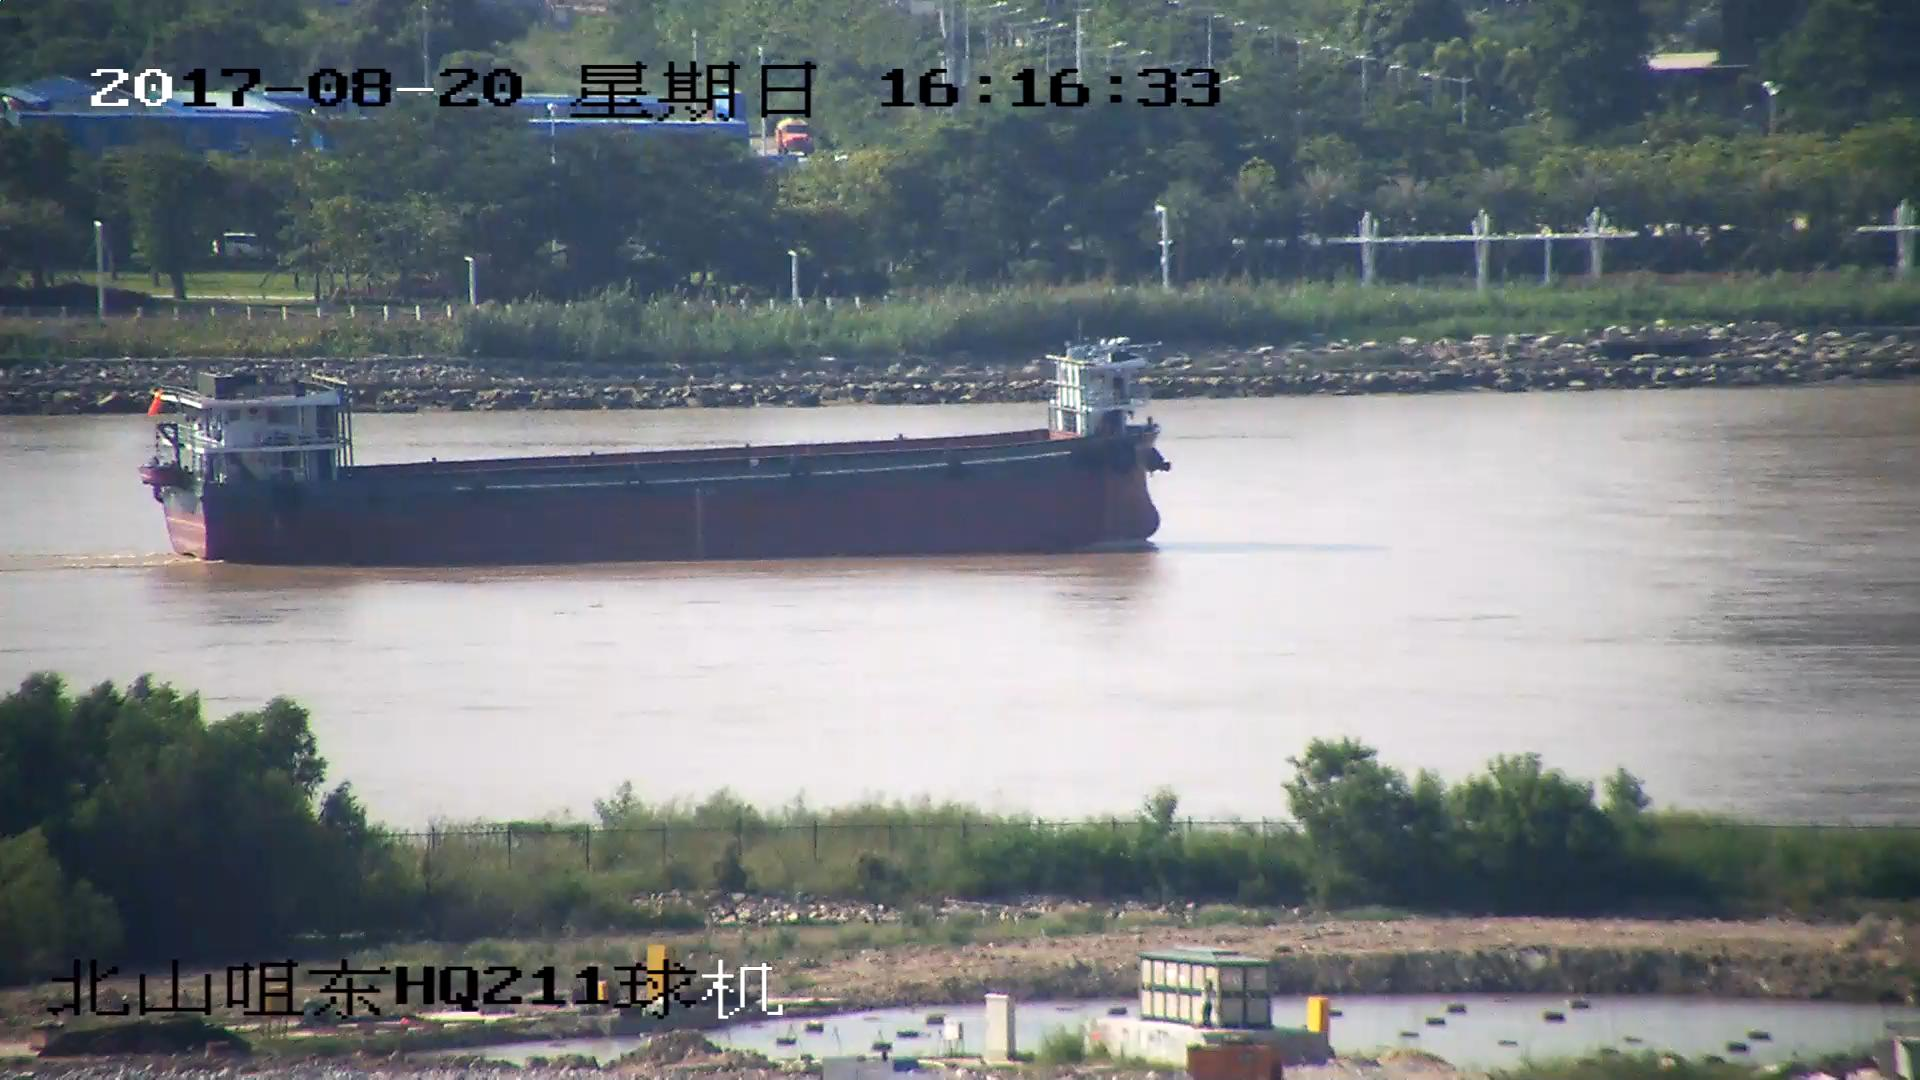general cargo ship: (143, 340, 1173, 552)
